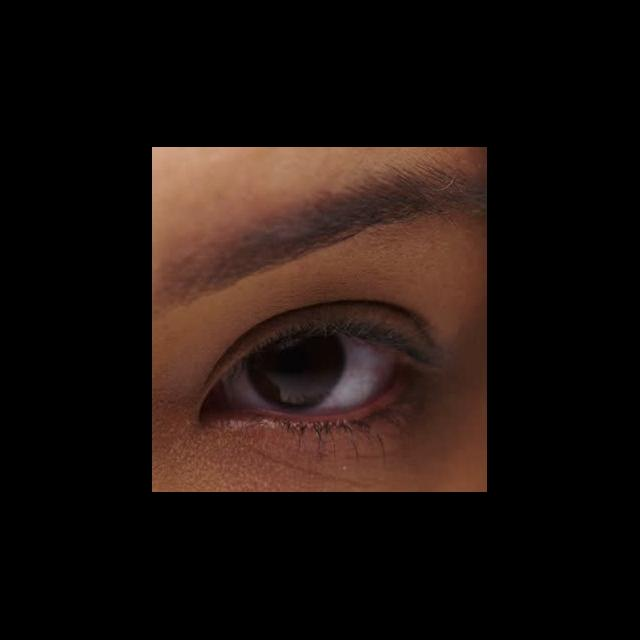eye: (224, 327, 402, 420)
iris: (246, 333, 347, 410)
